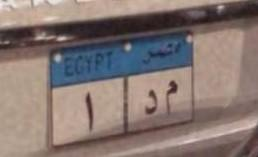1: (77, 89, 107, 130)
daal: (139, 84, 161, 120)
meem: (162, 78, 184, 117)
